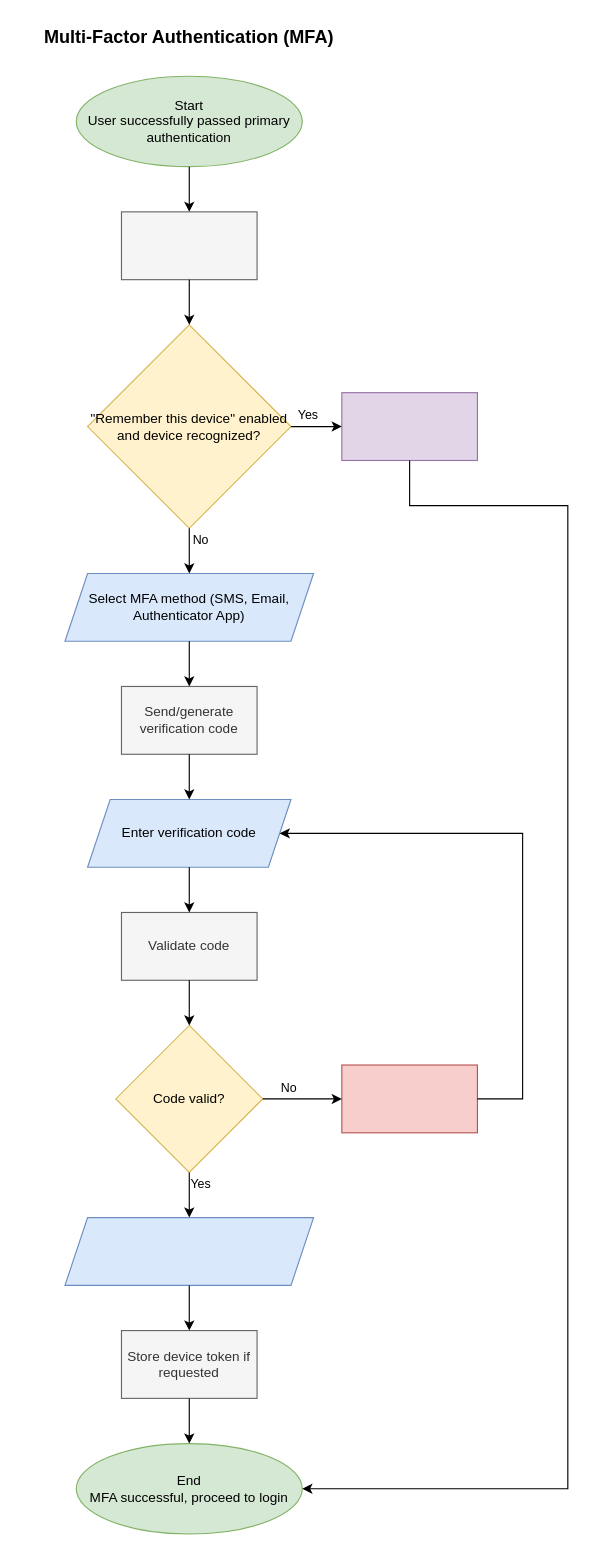
The diagram is 597 pixels wide and 1554 high, and some of its shapes have lost their labels. The box of each missing label's shape, as (x1, y1, x2, y2) in pixels:
Generate MFA challenge: (120, 211, 257, 280)
Optional: "Remember this device" checkbox: (64, 1216, 314, 1285)
Show error message, allow retry (limited attempts): (341, 1064, 477, 1133)
Skip MFA and proceed to successful login: (341, 392, 477, 460)
